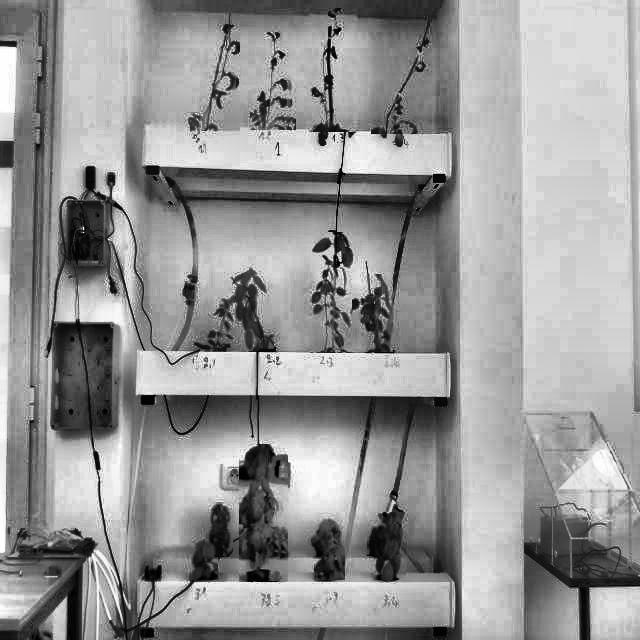plants: (371, 23, 441, 134), (239, 444, 288, 582), (309, 8, 357, 132), (190, 20, 240, 131), (310, 232, 356, 352), (250, 30, 295, 130), (233, 267, 274, 351), (351, 274, 393, 352), (194, 285, 236, 349), (374, 512, 406, 580), (205, 502, 233, 557), (307, 513, 342, 556), (189, 535, 218, 580), (314, 540, 345, 580), (367, 524, 401, 556)
